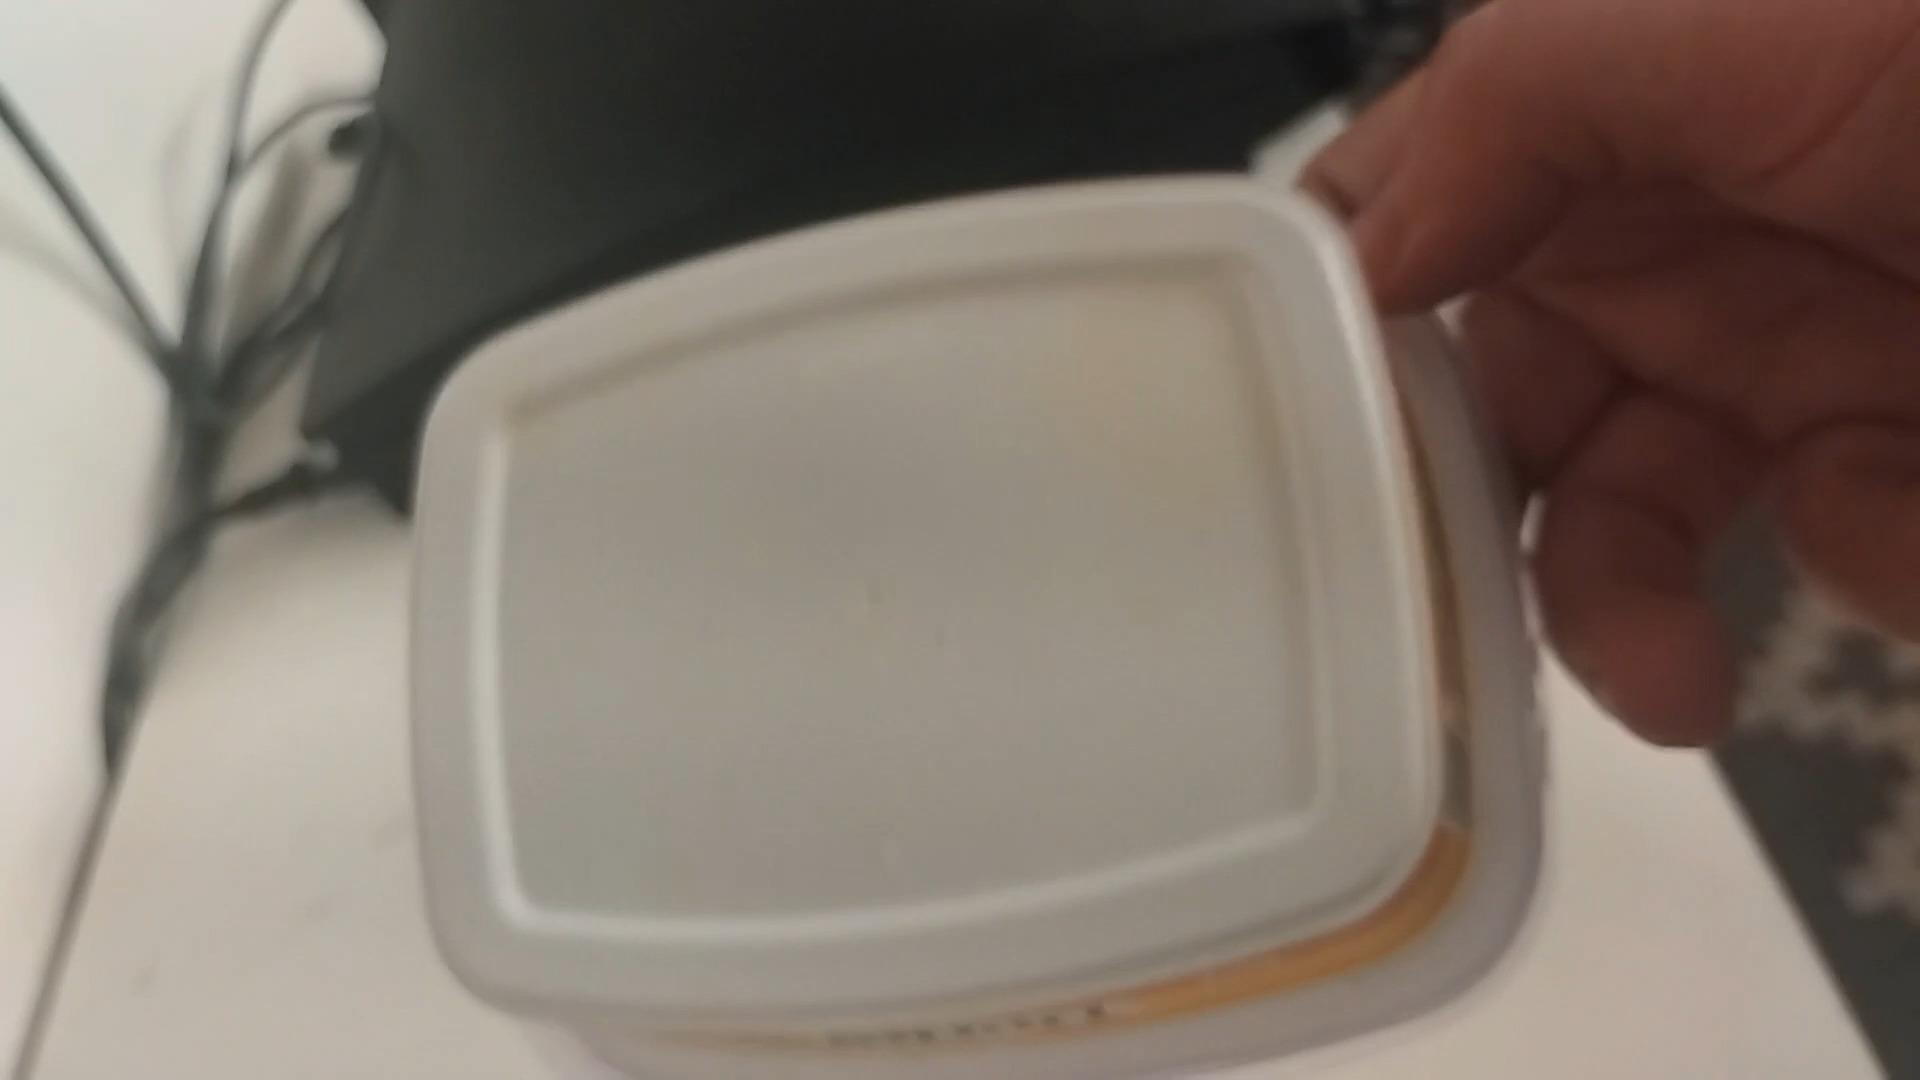butter: (405, 171, 1529, 1070)
